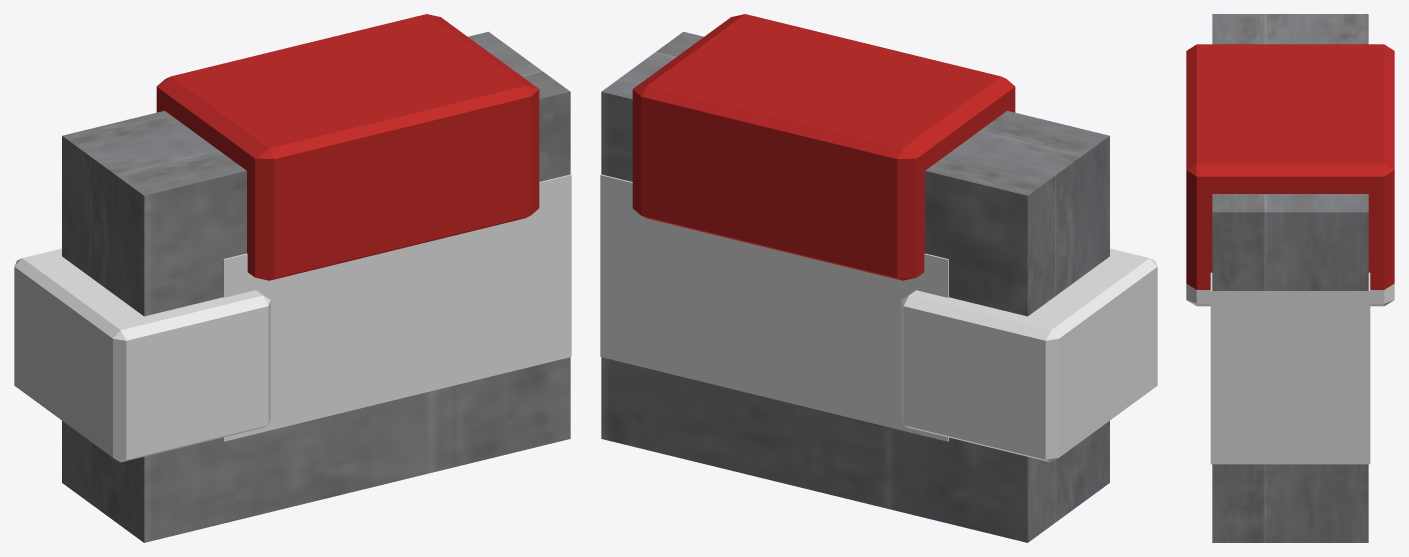
Rendered from chapa-bobinas.fbx.
The picture shows the model from 3 angles, left to right: view 1: azimuth 30°, elevation 25°; view 2: azimuth 150°, elevation 25°; view 3: azimuth 270°, elevation 25°; orthographic projection. The views are drawn at different scales.
Parts seen in each view (by area): view 1: Cubo, Cubo.002, Cubo.001, Cubo.003; view 2: Cubo, Cubo.002, Cubo.001, Cubo.003; view 3: Cubo.002, Cubo, Cubo.001, Cubo.003.
Part boxes in pixels (x1,y1,x2,y2): Cubo: [62, 31, 570, 542]; Cubo.002: [156, 14, 539, 280]; Cubo.001: [223, 174, 571, 441]; Cubo.003: [14, 248, 270, 462]; Cubo: [601, 31, 1109, 542]; Cubo.002: [632, 14, 1015, 280]; Cubo.001: [600, 174, 948, 441]; Cubo.003: [901, 248, 1157, 462]; Cubo.002: [1186, 44, 1394, 289]; Cubo: [1212, 14, 1368, 542]; Cubo.001: [1210, 272, 1370, 464]; Cubo.003: [1186, 283, 1394, 306].
Bounding box in the file's own units: 14.75 × 11.25 × 6.
